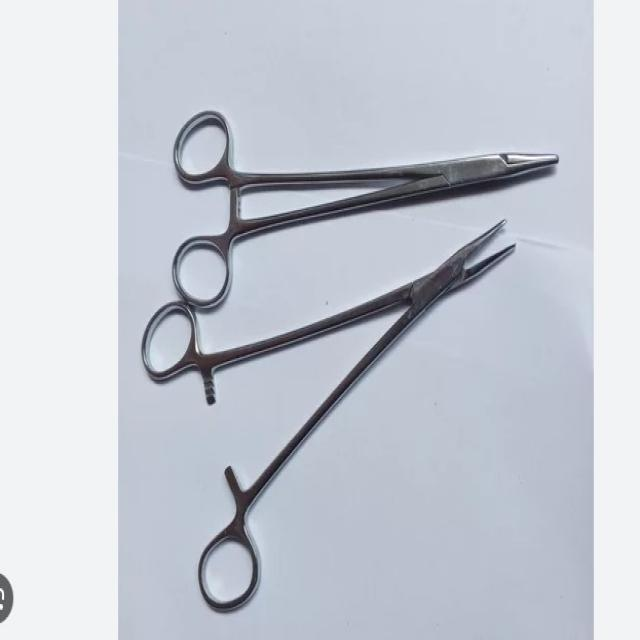Needle Holder: (122, 219, 519, 612), (168, 98, 562, 312)
